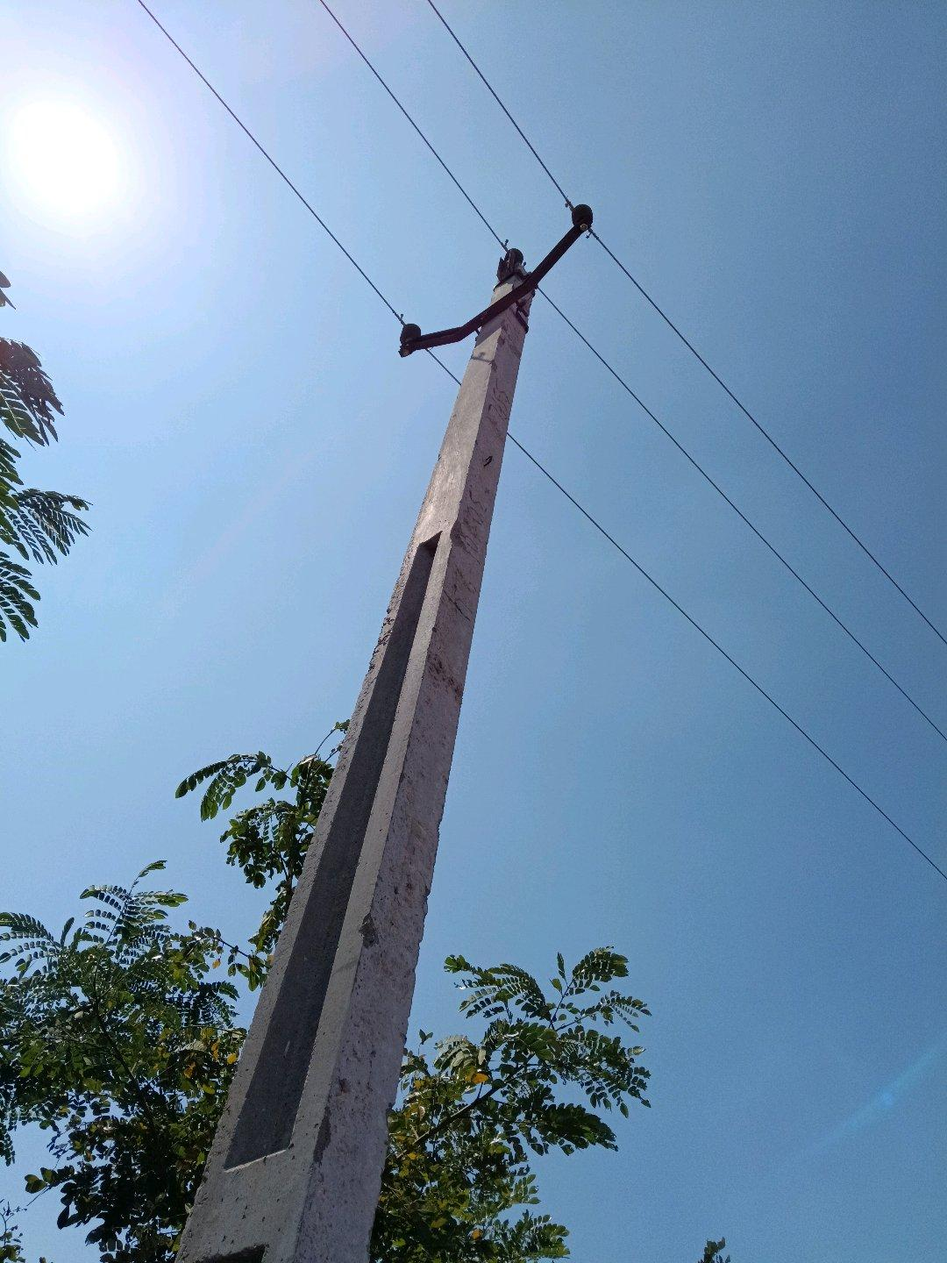{"0" "insulator", "1" "pole", "2" "crossarm", "3" "conductor", "4" "street_: (177, 205, 592, 1262), (431, 355, 457, 382)
